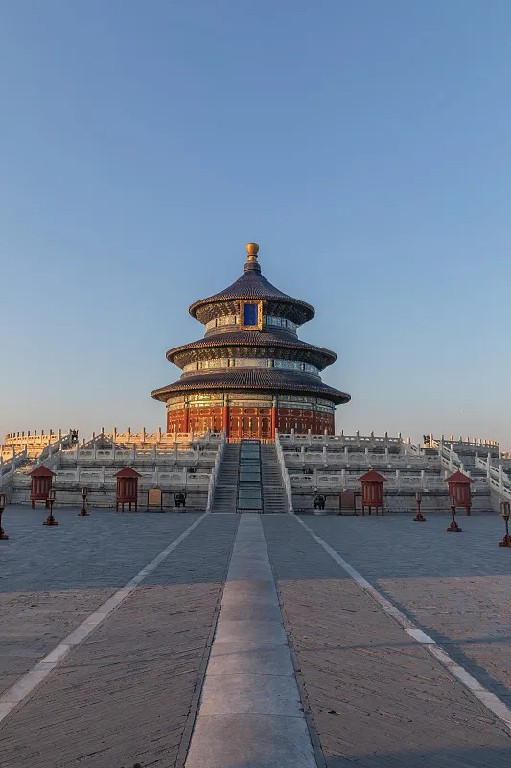Heaven: (151, 241, 355, 444)
